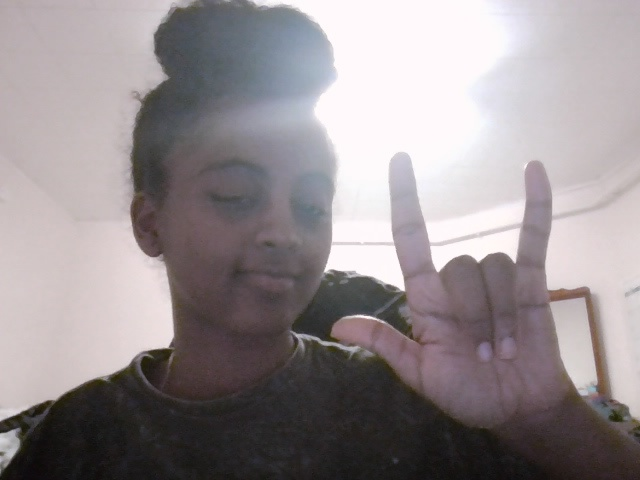ILoveYou: (329, 147, 597, 428)
